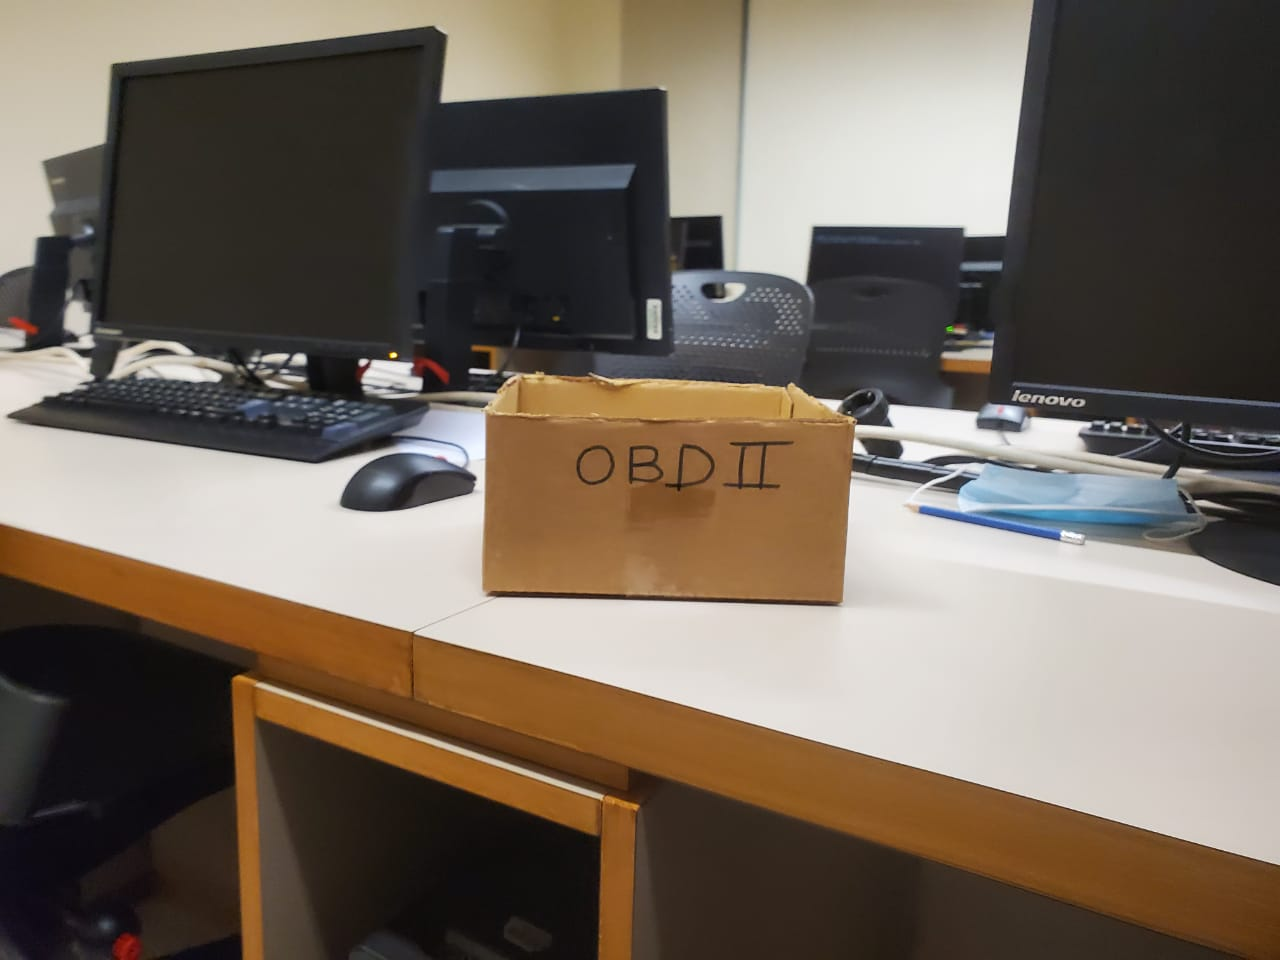CBox: (480, 362, 866, 628)
